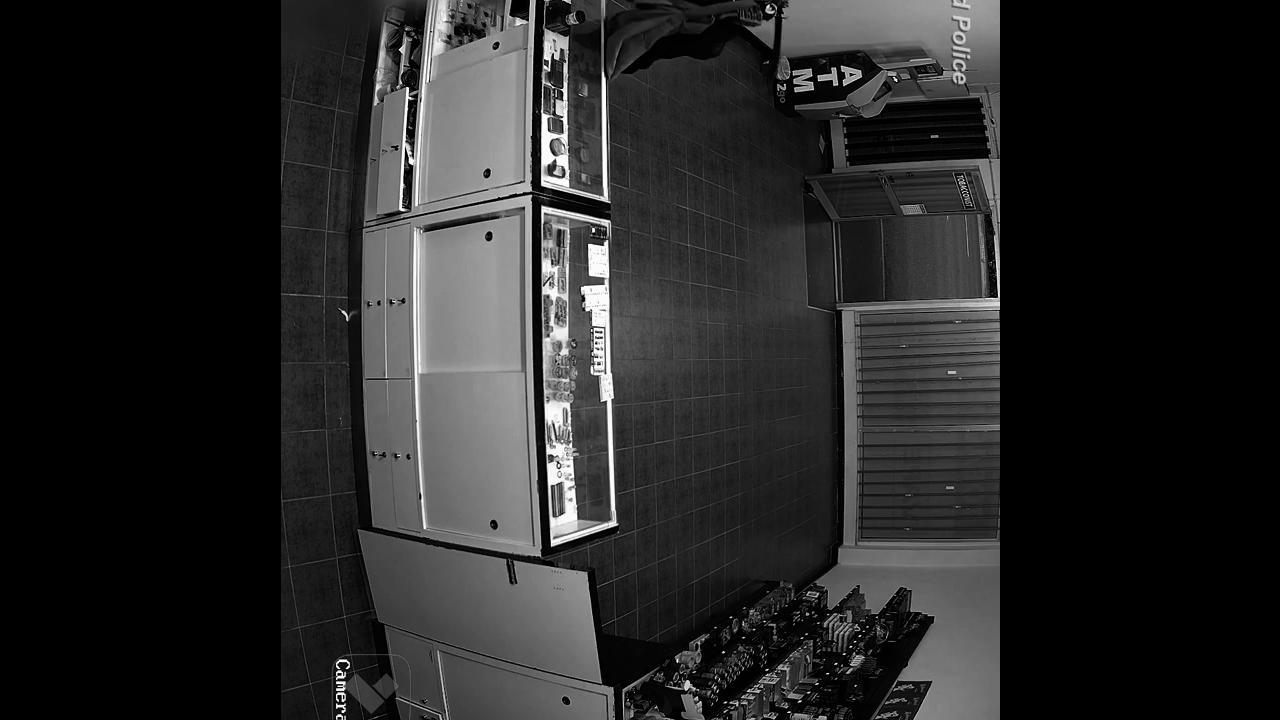melee: (759, 0, 786, 89)
